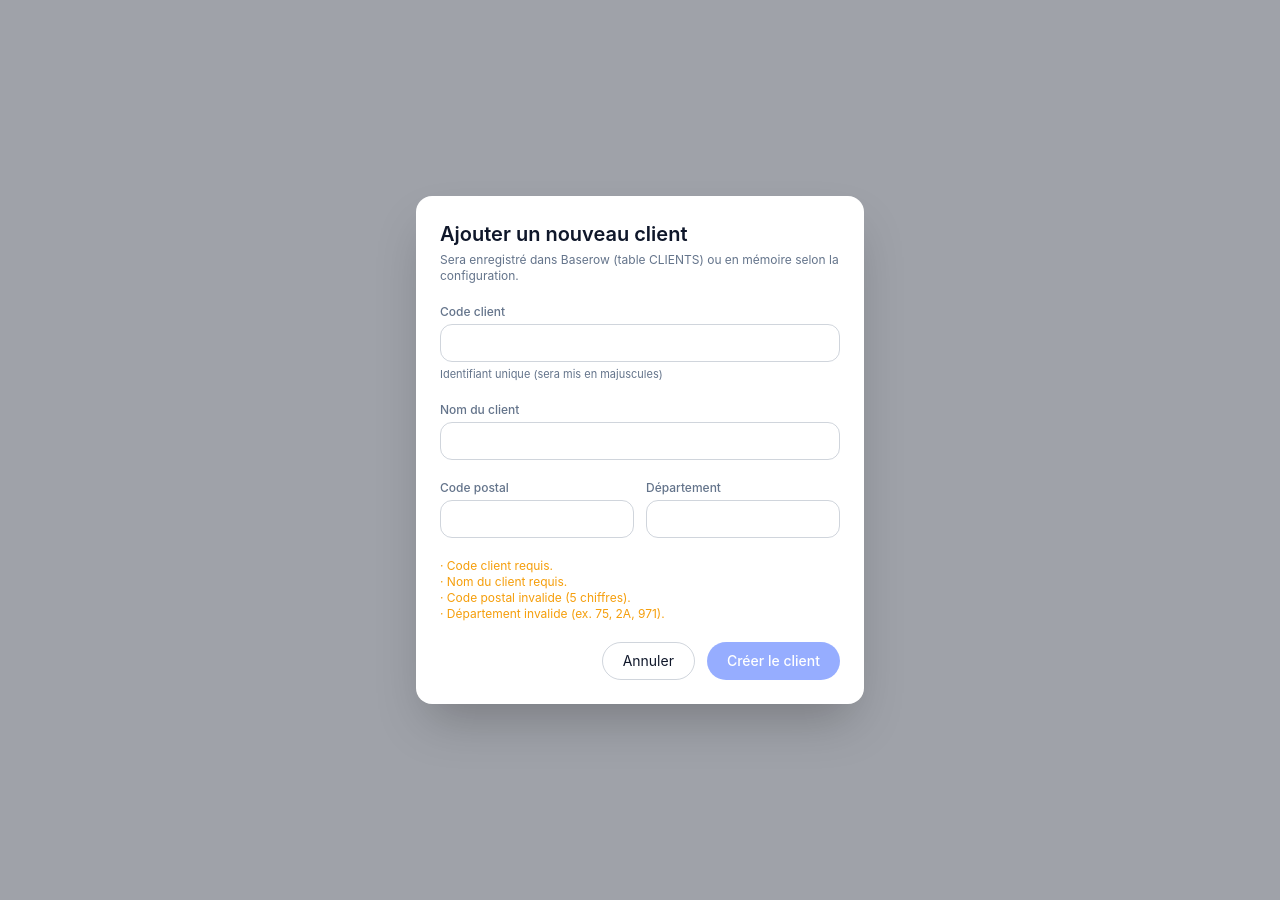
Test: NewClientModal › shows the API error message and does not close on 409
The image size is (1280, 900).
Type "c-dup" into the field labelled "Code client". click: (640, 343)
box: [440,324,840,362]
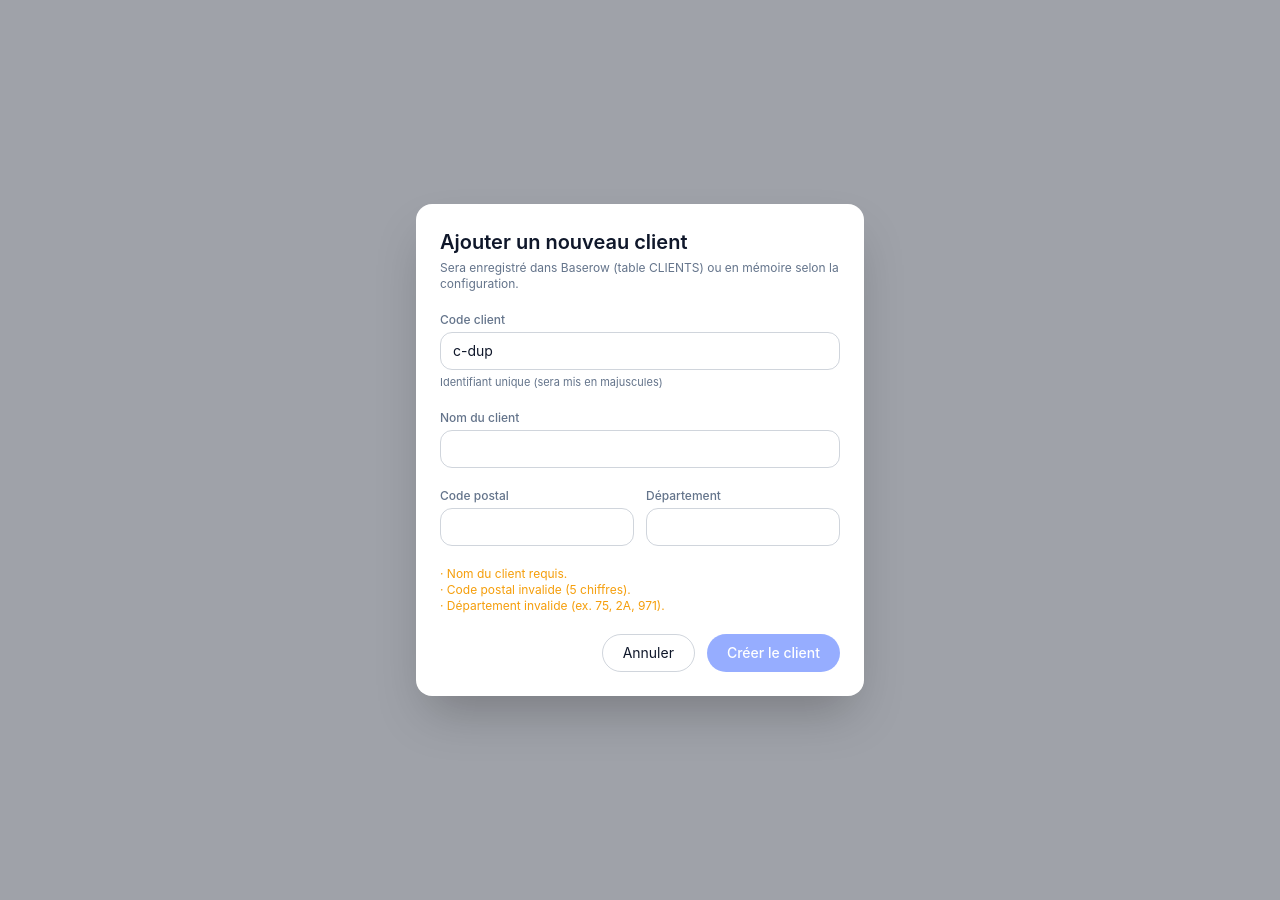
Type "X" into the field labelled "Nom du client". click: (640, 449)
box: [440,430,840,468]
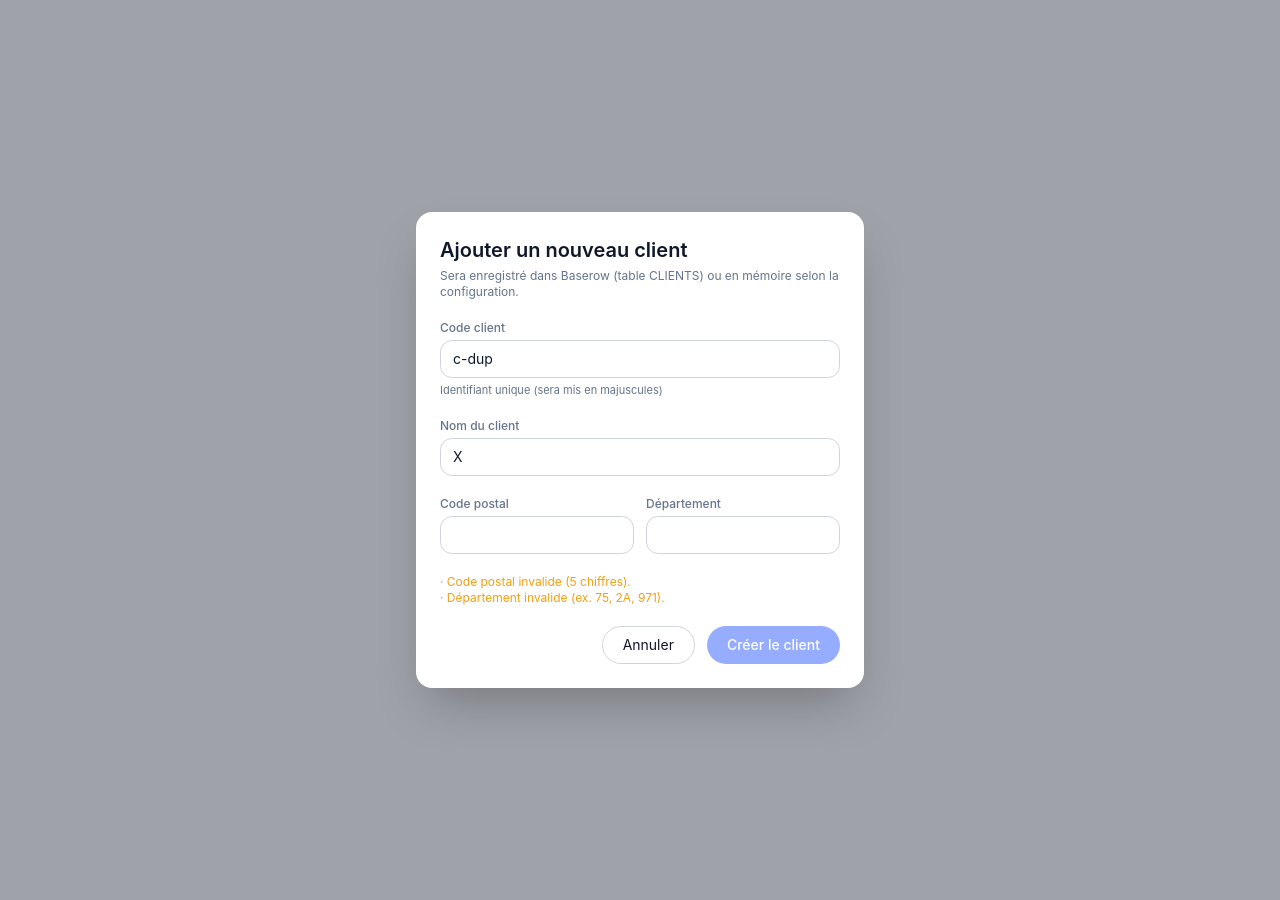
Type "75015" into the field labelled "Code postal". click: (537, 535)
box: [440,516,634,554]
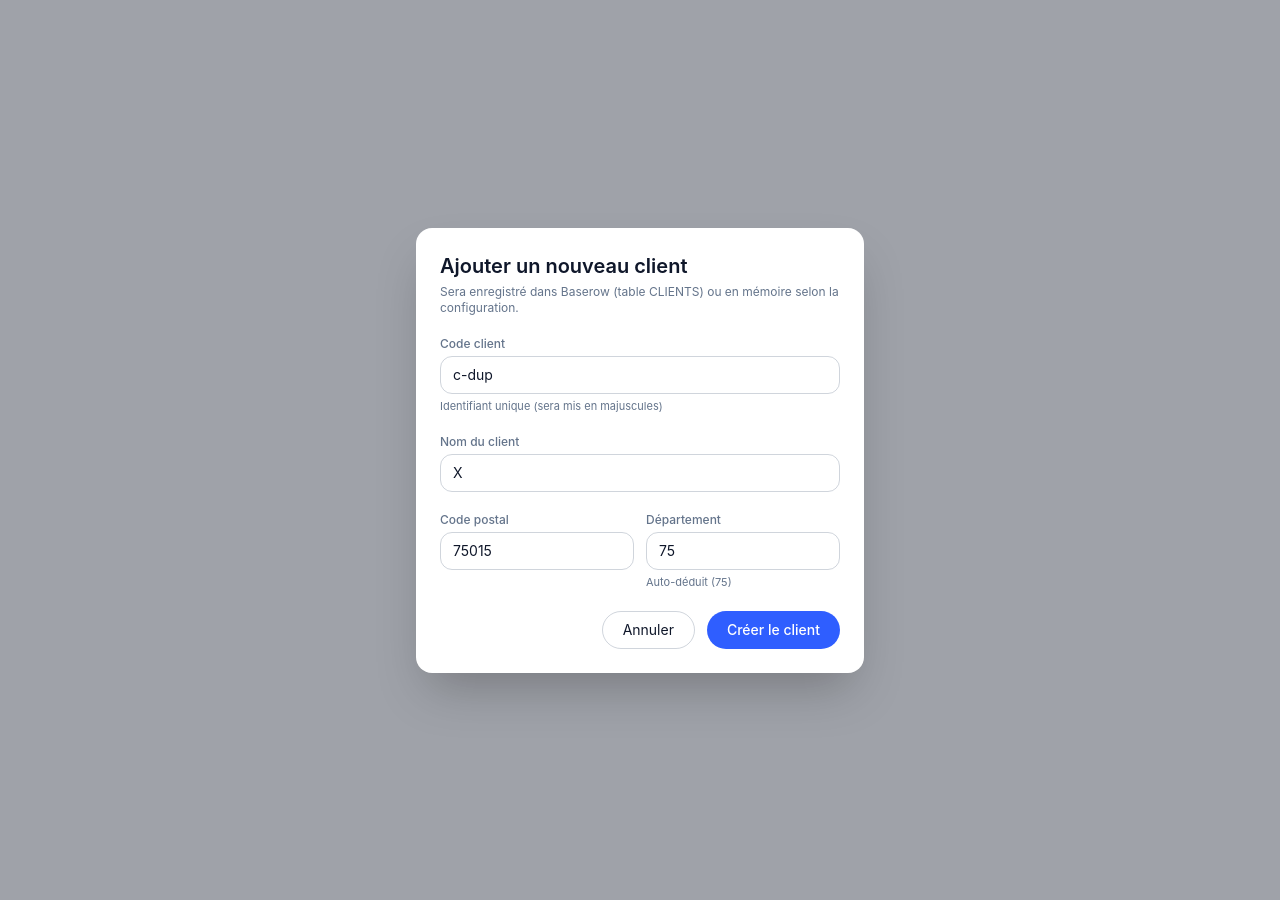
Click the button "Créer le client". click: (774, 630)
box: [707,610,840,648]
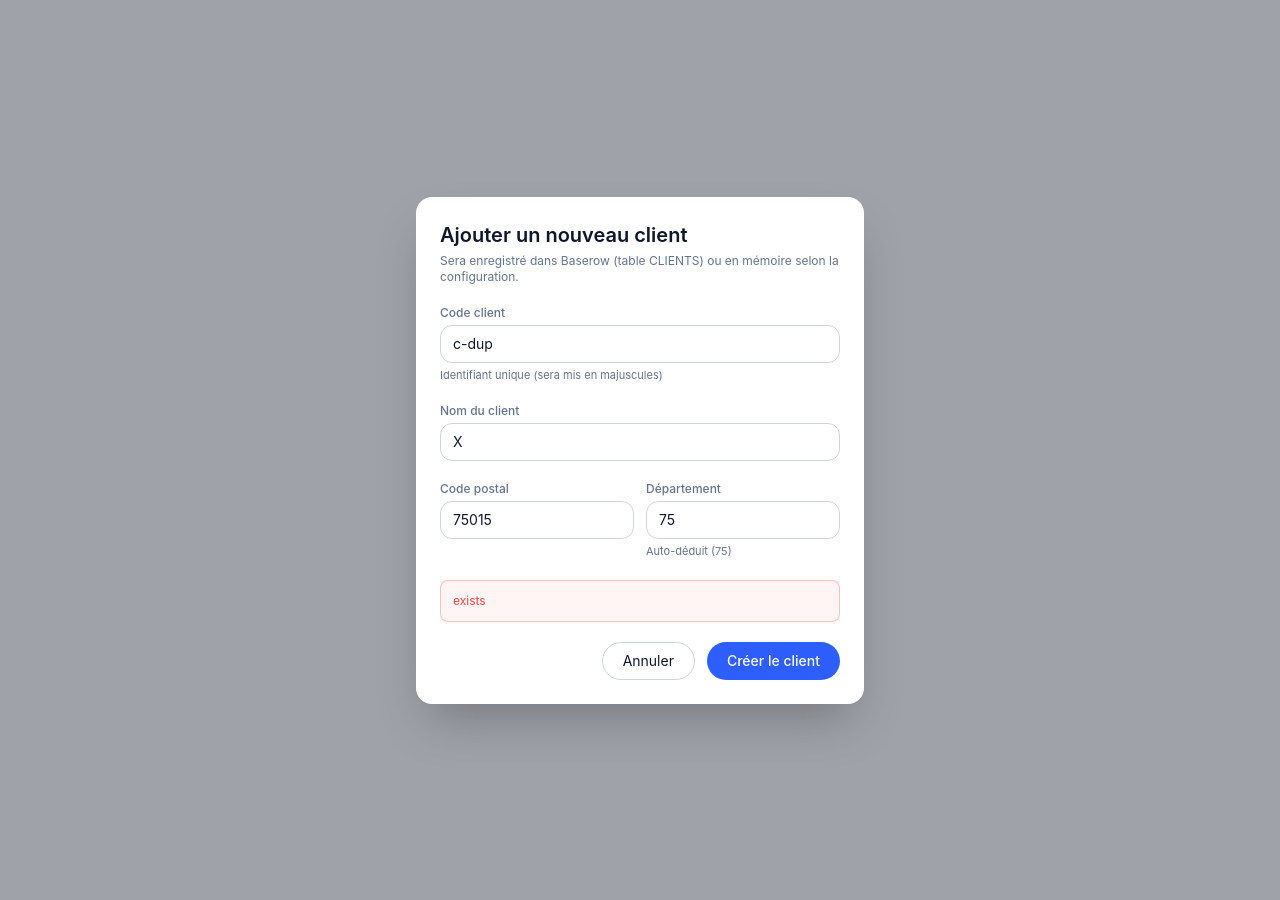
Expected: the message "exists" is shown, [440,580,840,622]
